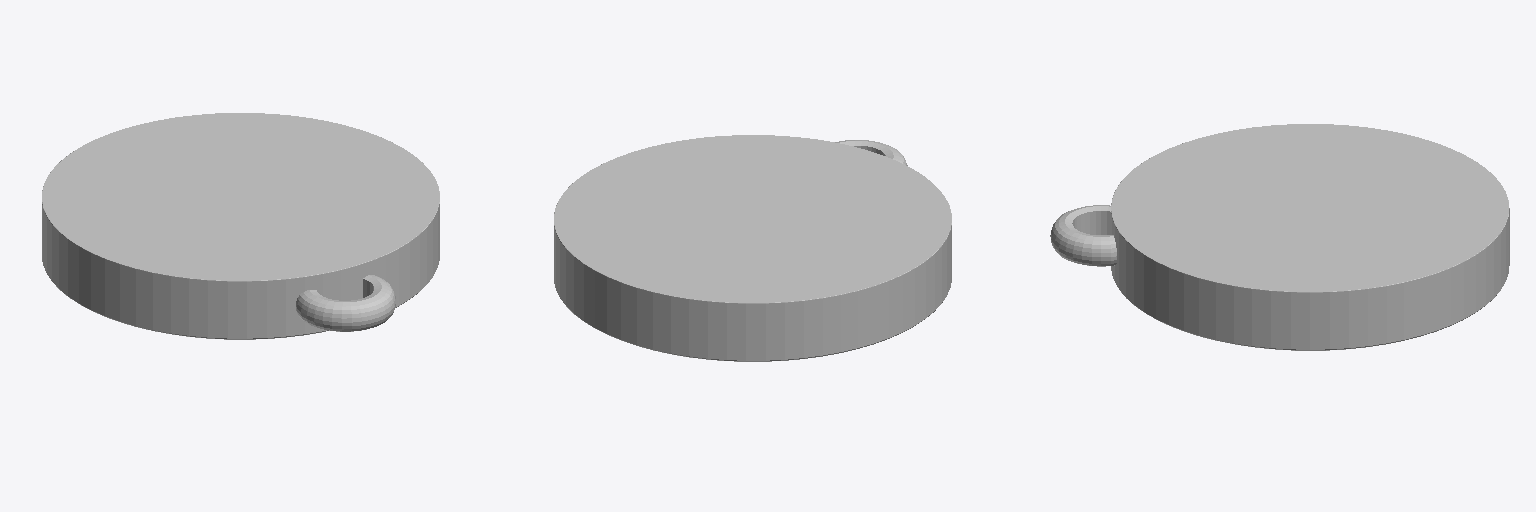
The model's file is Invincible.obj.
3 views of the same model, side by side, from view 1: azimuth 30°, elevation 25°; view 2: azimuth 150°, elevation 25°; view 3: azimuth 270°, elevation 25° (orthographic).
Parts seen in each view (by area): view 1: 20939_Muscular_Arm_Flexing; view 2: 20939_Muscular_Arm_Flexing; view 3: 20939_Muscular_Arm_Flexing.
Boxes of the visible parts, box(x1,y1,x2,y2) form: 20939_Muscular_Arm_Flexing: box(42, 113, 439, 339); 20939_Muscular_Arm_Flexing: box(554, 135, 951, 361); 20939_Muscular_Arm_Flexing: box(1050, 124, 1509, 350).
Size of the model in its own units: 4.98 by 1.32 by 5.73.